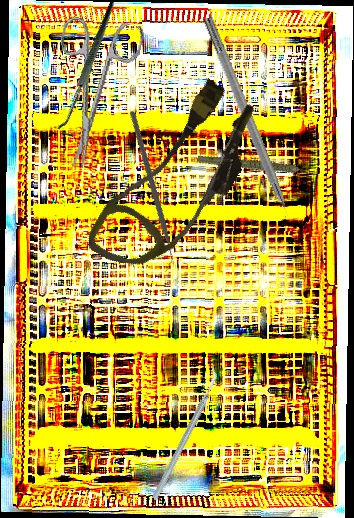Cannula: (82, 65, 273, 295)
Chopper: (66, 110, 232, 273), (112, 364, 257, 503)
Handpiece: (195, 131, 316, 203)
Hook Surgical: (200, 15, 300, 237), (18, 0, 163, 141)
Iris Scissors: (35, 10, 146, 176)
